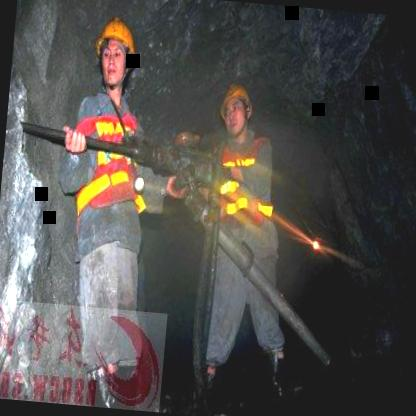helmet: (90, 8, 142, 97), (215, 77, 256, 141)
